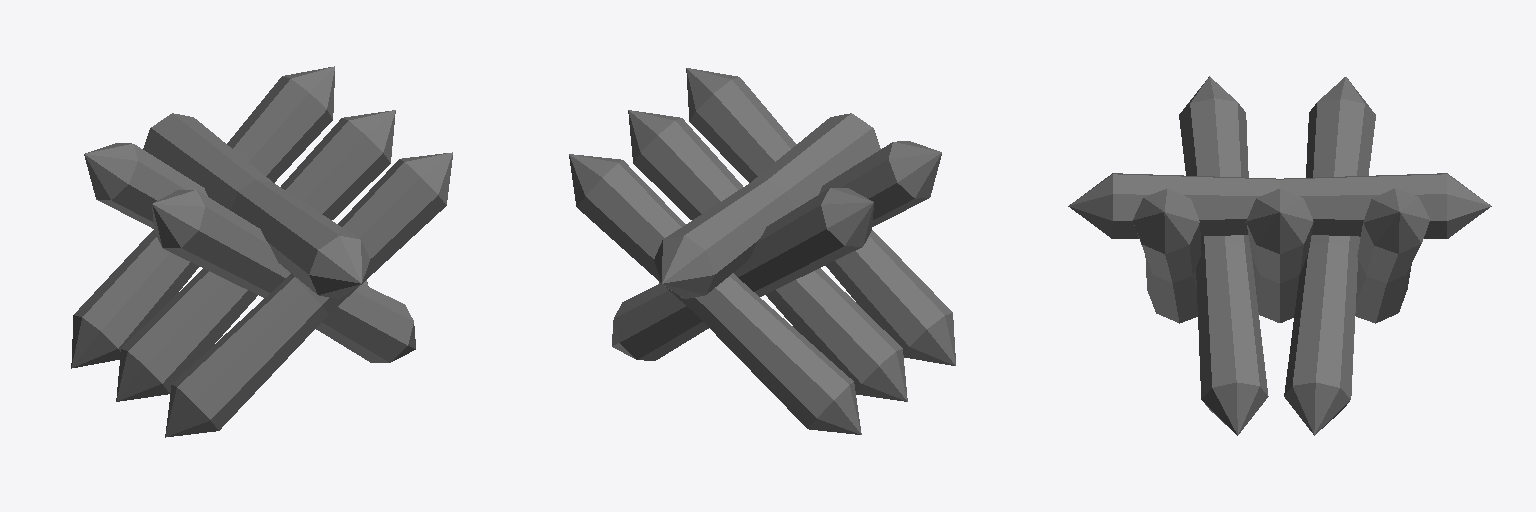
The model's file is Barricade.obj.
3 renders of one model, left to right at view 1: azimuth 30°, elevation 25°; view 2: azimuth 150°, elevation 25°; view 3: azimuth 270°, elevation 25°, orthographic.
Parts seen in each view (by area): view 1: Barricade1 Log6BarricadeLog4, Barricade1 Log6BarricadeLog2, Barricade1 Log6BarricadeLog3, Barricade1 Log6BarricadeLog1, Log6BarricadeLog6 Barricade1, Barricade1 Log6BarricadeLog5; view 2: Barricade1 Log6BarricadeLog3, Barricade1 Log6BarricadeLog2, Barricade1 Log6BarricadeLog4, Barricade1 Log6BarricadeLog1, Barricade1 Log6BarricadeLog5, Log6BarricadeLog6 Barricade1; view 3: Log6BarricadeLog6 Barricade1, Barricade1 Log6BarricadeLog5, Barricade1 Log6BarricadeLog1, Barricade1 Log6BarricadeLog3, Barricade1 Log6BarricadeLog4, Barricade1 Log6BarricadeLog2.
Part boxes in pixels (x1,y1,x2,y2): Barricade1 Log6BarricadeLog4: (165,152,452,437); Barricade1 Log6BarricadeLog2: (116,110,395,401); Barricade1 Log6BarricadeLog3: (71,66,334,368); Barricade1 Log6BarricadeLog1: (143,113,369,298); Log6BarricadeLog6 Barricade1: (152,190,415,362); Barricade1 Log6BarricadeLog5: (84,143,368,286); Barricade1 Log6BarricadeLog3: (569,154,861,434); Barricade1 Log6BarricadeLog2: (628,110,907,401); Barricade1 Log6BarricadeLog4: (686,68,955,365); Barricade1 Log6BarricadeLog1: (654,113,880,298); Barricade1 Log6BarricadeLog5: (612,188,873,360); Log6BarricadeLog6 Barricade1: (659,141,941,283); Log6BarricadeLog6 Barricade1: (1179,76,1268,435); Barricade1 Log6BarricadeLog5: (1284,77,1375,435); Barricade1 Log6BarricadeLog1: (1068,173,1491,238); Barricade1 Log6BarricadeLog3: (1355,188,1429,323); Barricade1 Log6BarricadeLog4: (1133,188,1201,323); Barricade1 Log6BarricadeLog2: (1246,189,1313,322).
Size of the model in its own units: 3.6 by 2.77 by 4.72.